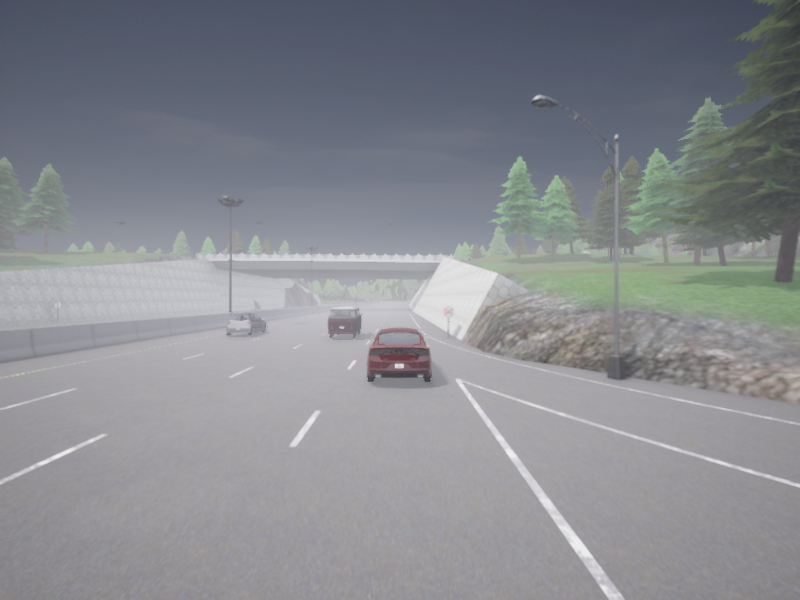vehicle: (367, 327, 431, 380), (328, 306, 362, 337), (227, 313, 266, 335)
